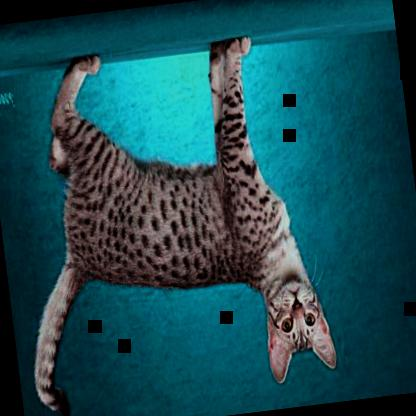cat: (0, 30, 338, 415)
